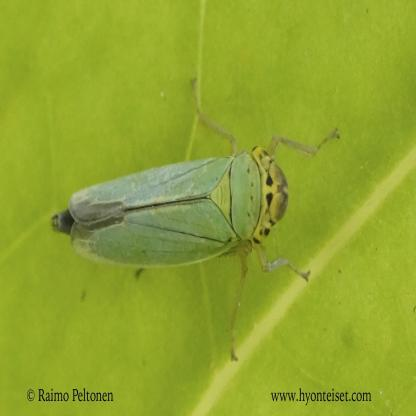Green-Leafhopper: (51, 76, 345, 348)
